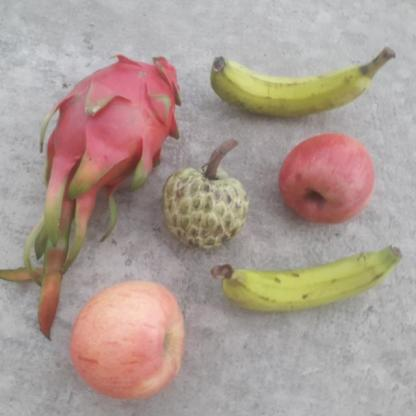annona: (162, 161, 253, 257)
apple: (66, 278, 192, 400), (274, 131, 384, 230)
banana: (208, 51, 404, 124), (213, 247, 412, 315)
pitaya: (35, 53, 182, 195)
